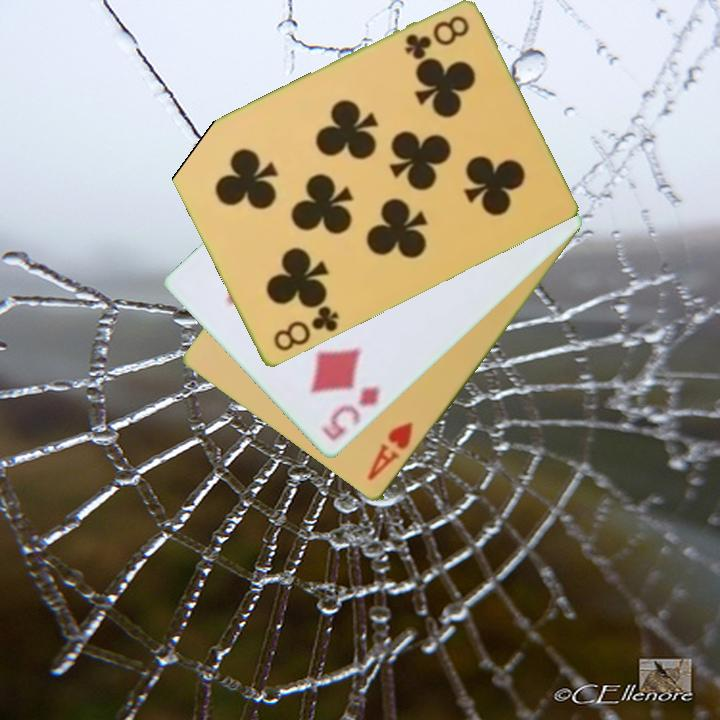5d: (317, 383, 383, 445)
8c: (269, 302, 342, 355), (401, 12, 472, 63)
Ah: (364, 419, 416, 485)
